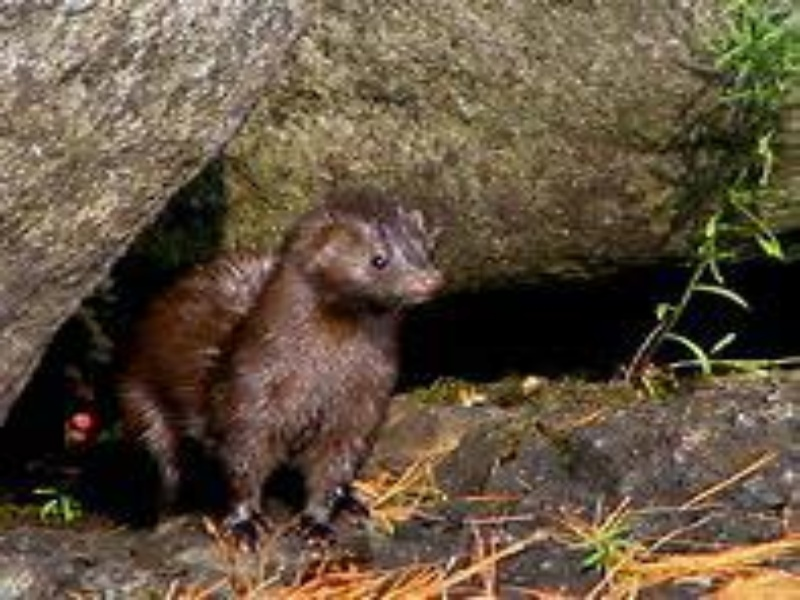minkish: (55, 197, 453, 553)
